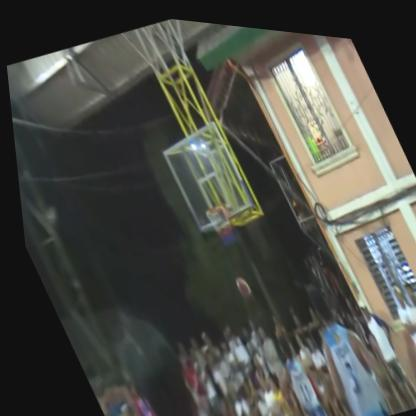basketball: (225, 265, 250, 297)
rim: (197, 191, 244, 258)
